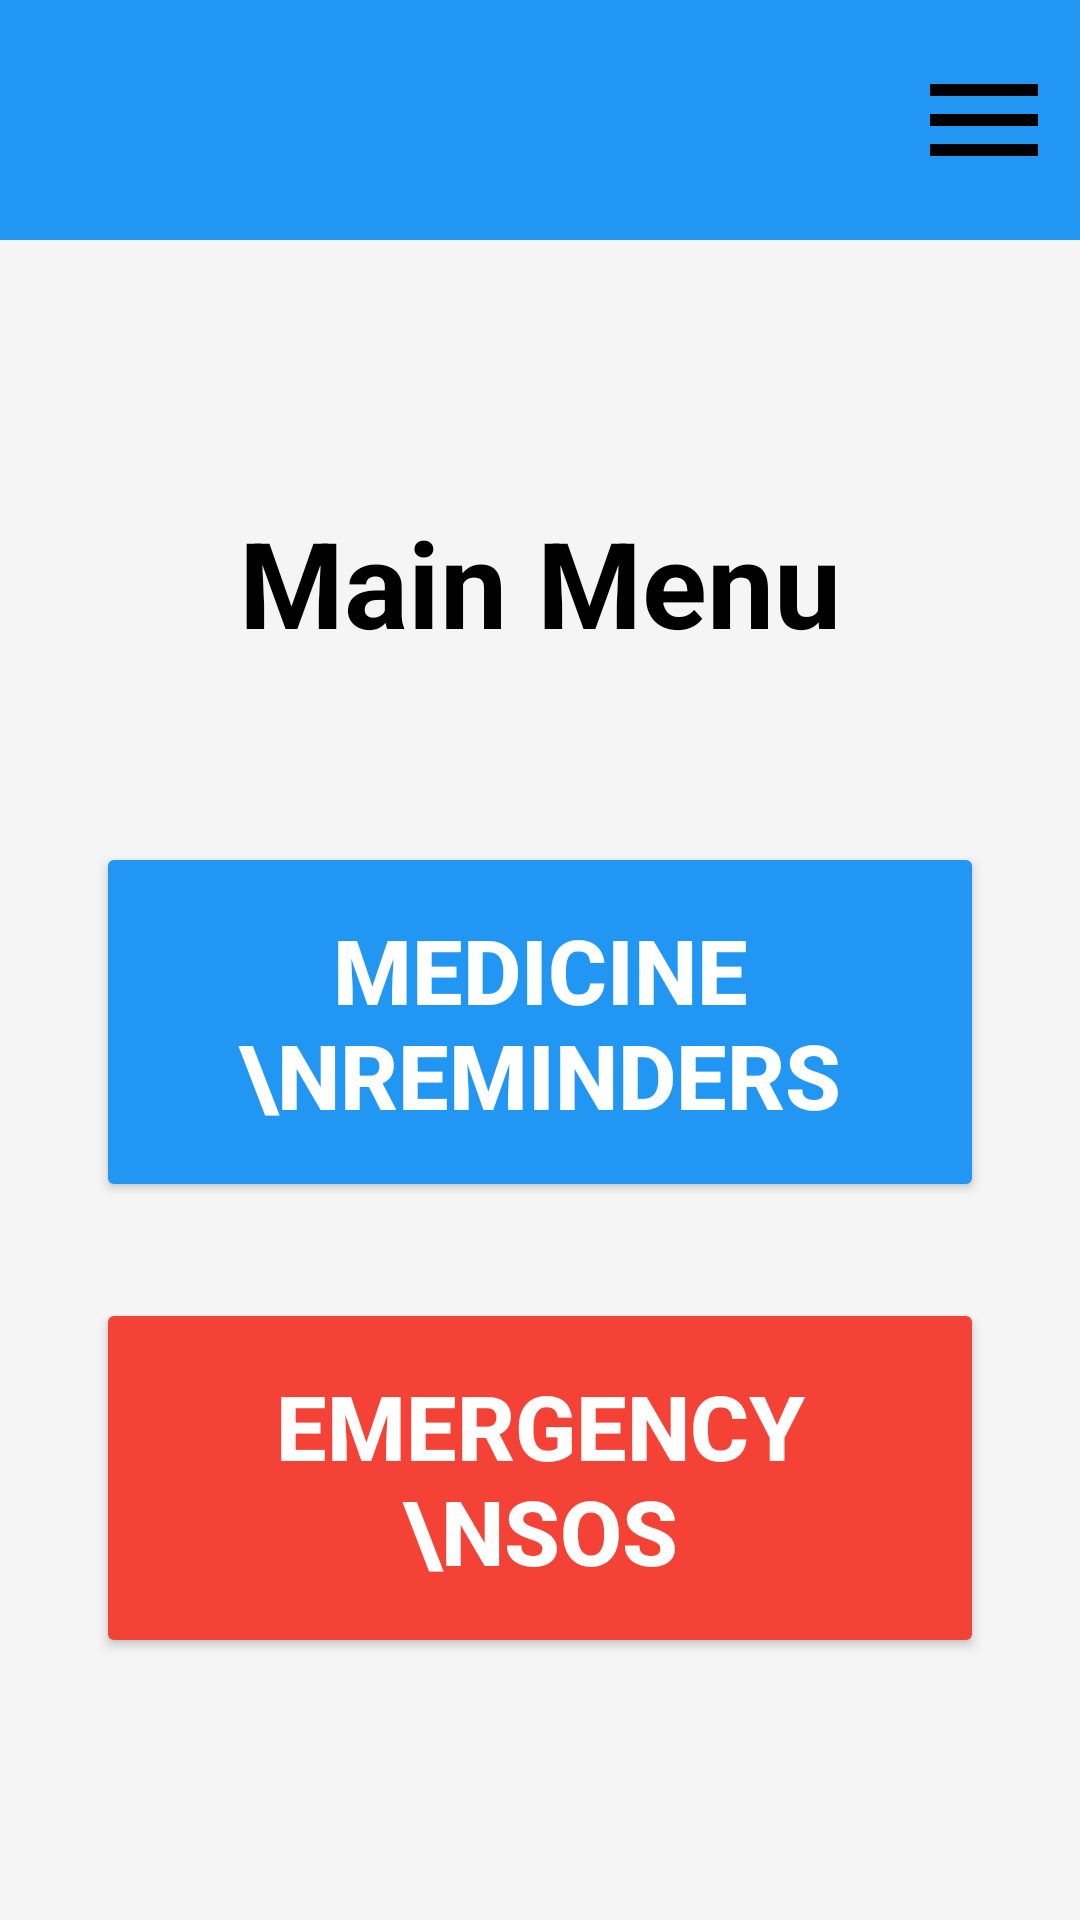

Icons on this 1080px x 1920px Android screen, each with the point to tap as point (x, y):
Menu: point (984, 120)
